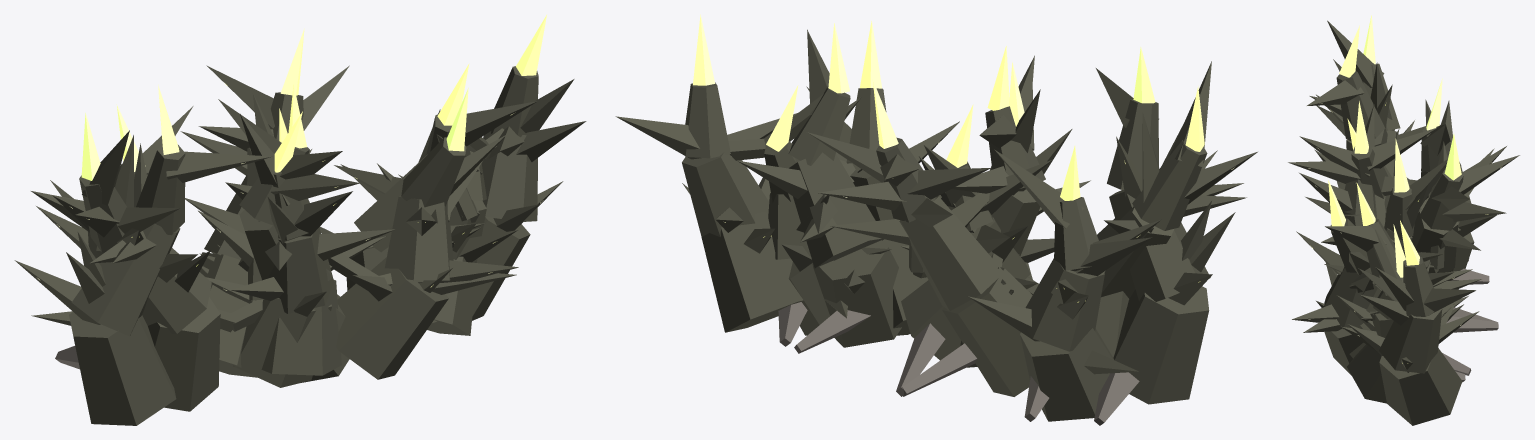
File: thorn_wall_2.glb
3 views of the same model, side by side, from view 1: azimuth 30°, elevation 25°; view 2: azimuth 150°, elevation 25°; view 3: azimuth 270°, elevation 25° (orthographic). The views are drawn at different scales.
Parts seen in each view (by area): view 1: thorn_wall_2; view 2: thorn_wall_2; view 3: thorn_wall_2.
Boxes of the visible parts, box(x1,y1,x2,y2) form: thorn_wall_2: box(14, 15, 586, 425); thorn_wall_2: box(615, 14, 1257, 425); thorn_wall_2: box(1288, 15, 1519, 425).
Bounding box in the file's own units: 4.53 × 2.69 × 2.12.
